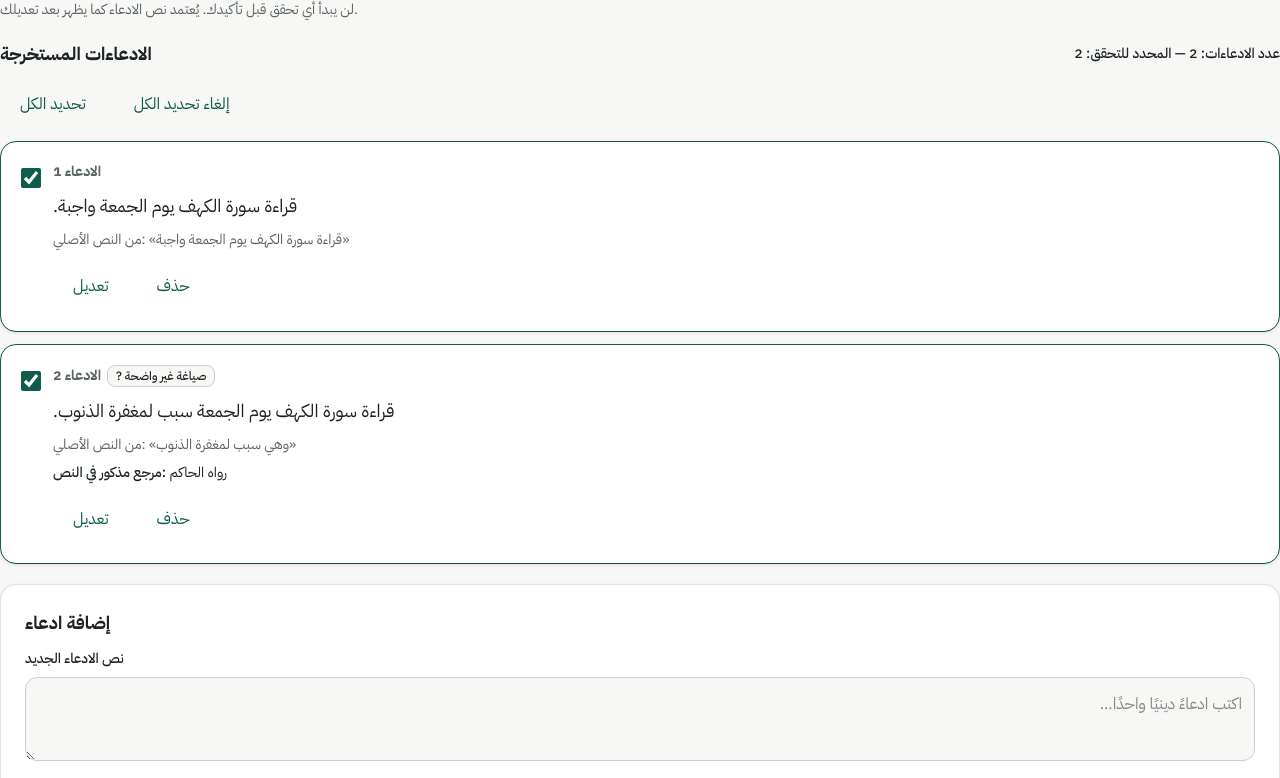
it: Claim Review › deselecting excludes a claim; zero selected shows the required message and sends nothing
This screenshot has width=1280, height=778.
Click the checkbox named "تحديد الادعاء 1 للتحقق".
click(31, 178)  # box x1=21 y1=168 x2=41 y2=188
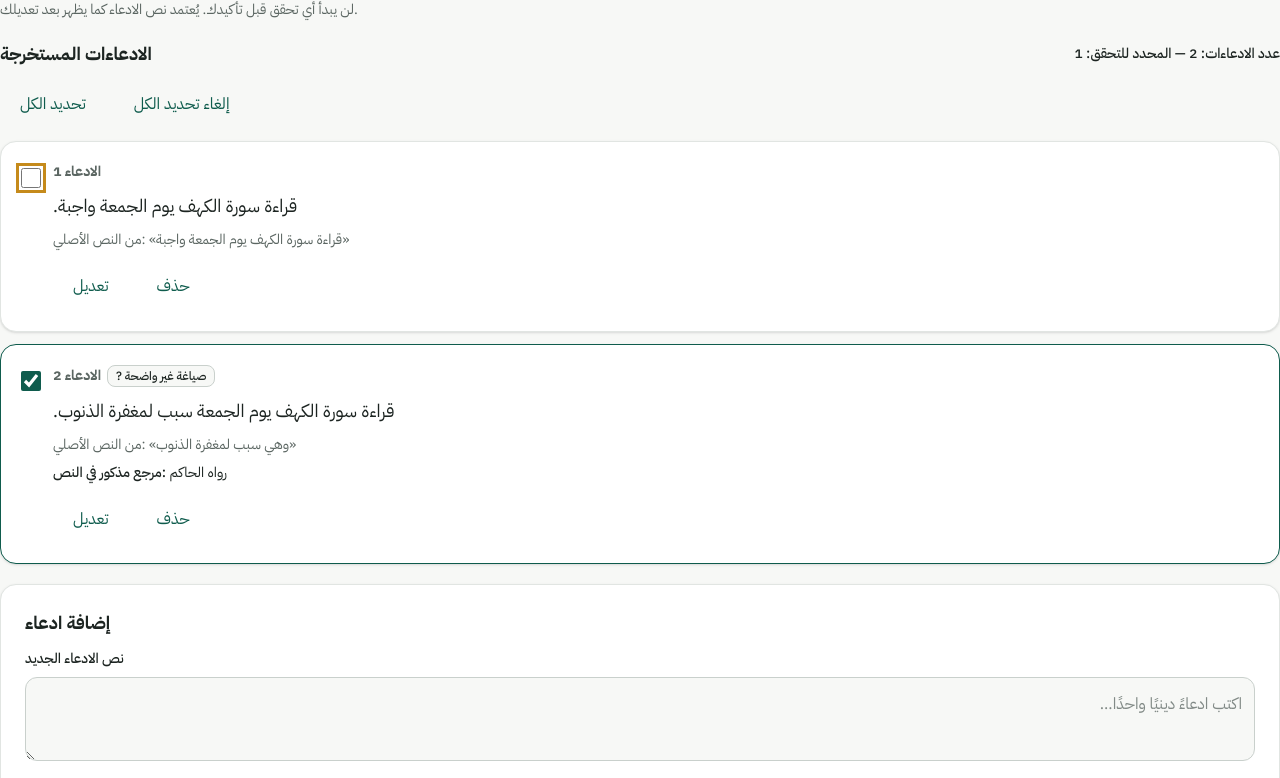
Click the checkbox named "تحديد الادعاء 2 للتحقق".
click(31, 381)  # box x1=21 y1=371 x2=41 y2=391
(page scrolled)
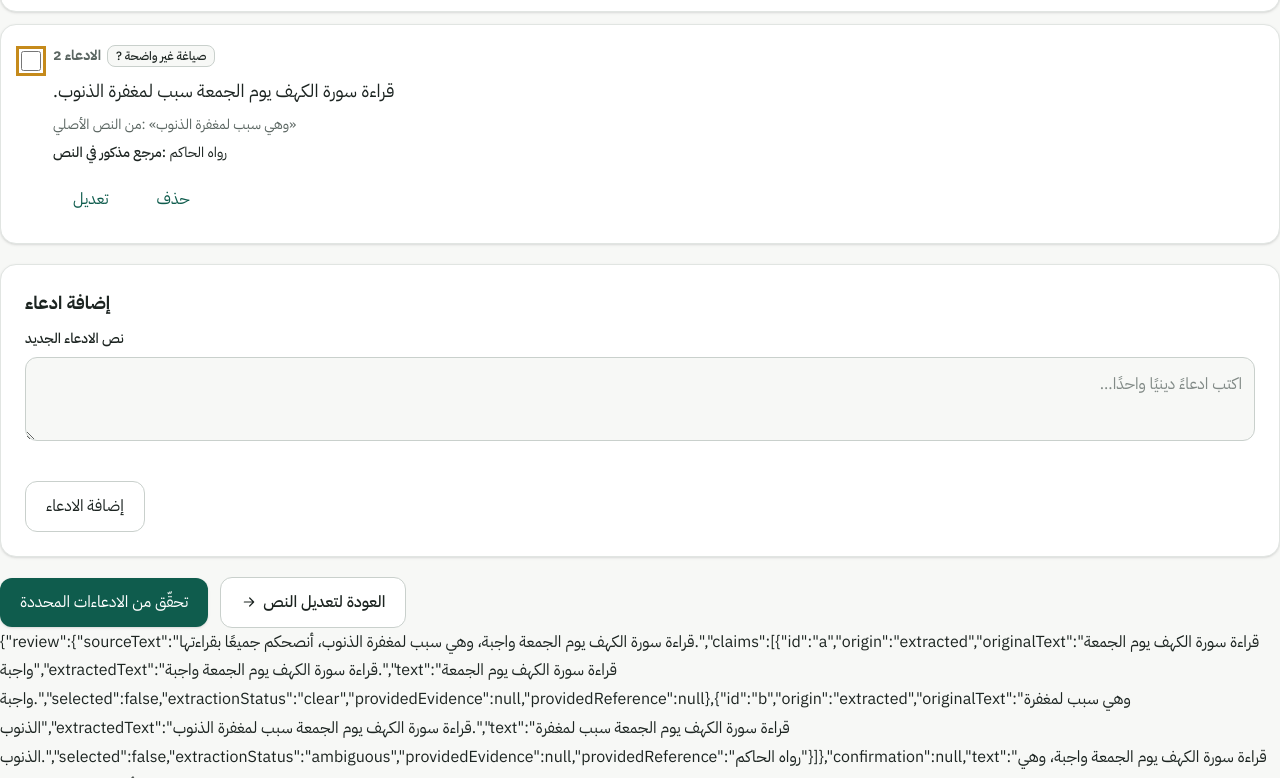
Click the button "تحقّق من الادعاءات المحددة".
click(104, 602)  # box x1=0 y1=578 x2=208 y2=627
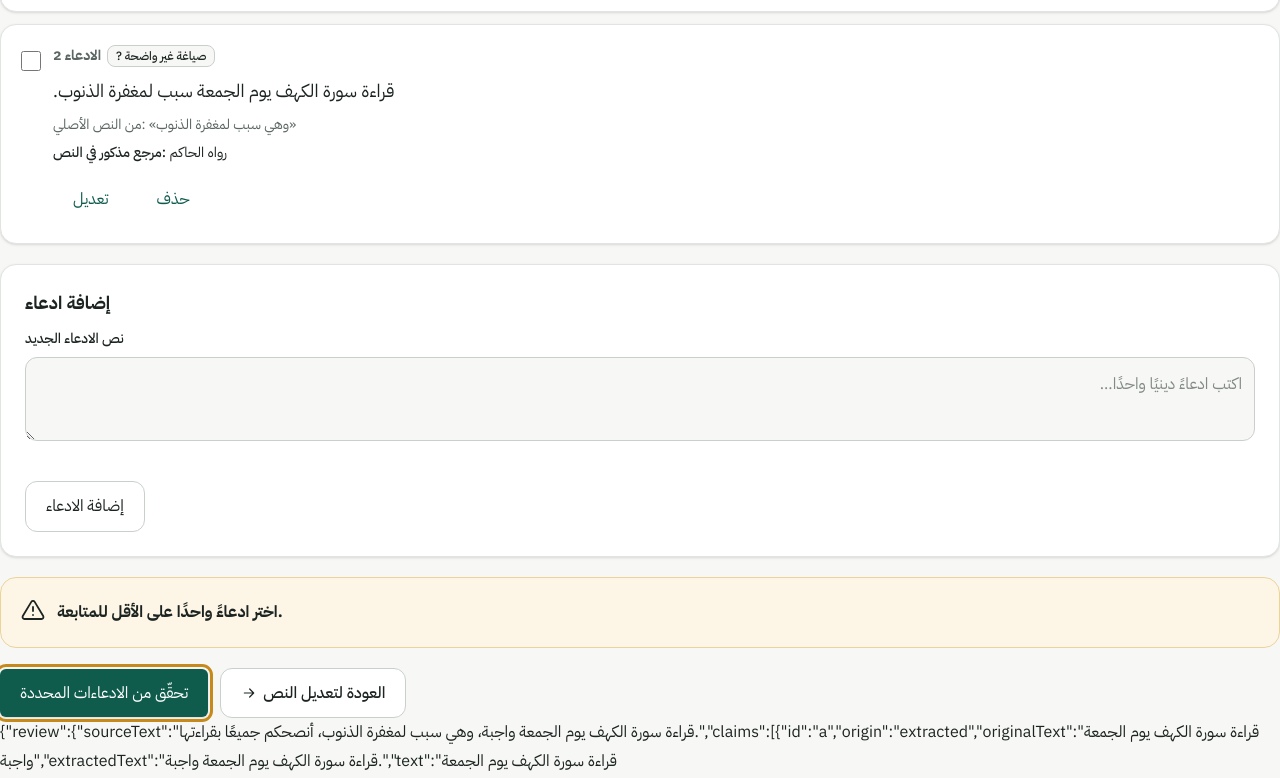
Check: the text "اختر ادعاءً واحدًا على الأقل للمتابعة." is shown, box x1=0 y1=577 x2=1279 y2=648
